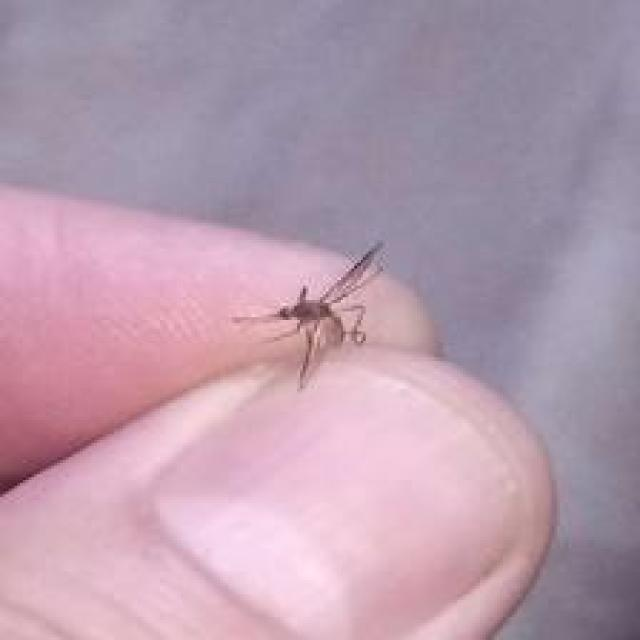Culex: (230, 240, 387, 391)
